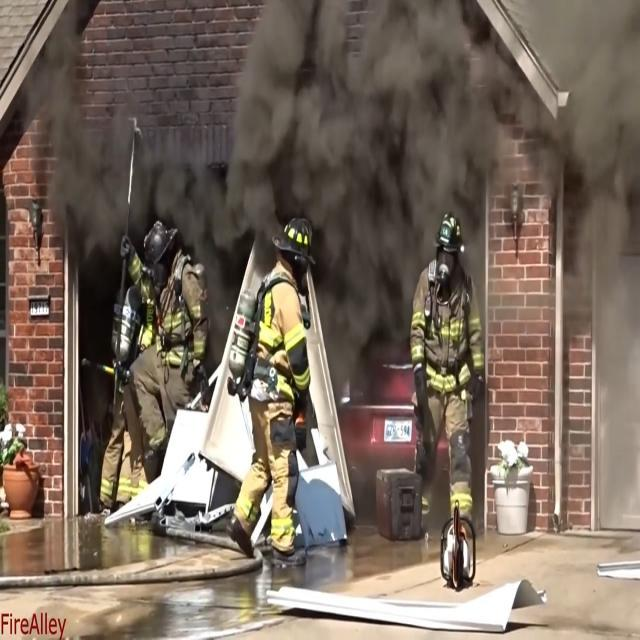Smoke: (256, 9, 484, 271)
